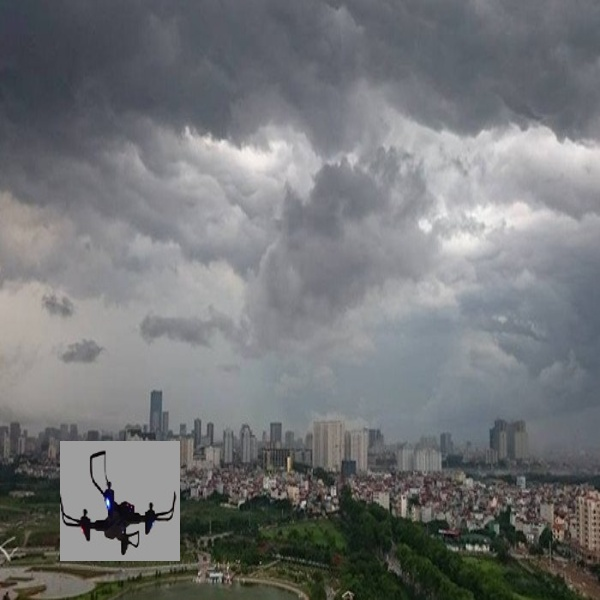drone: (56, 443, 180, 558)
